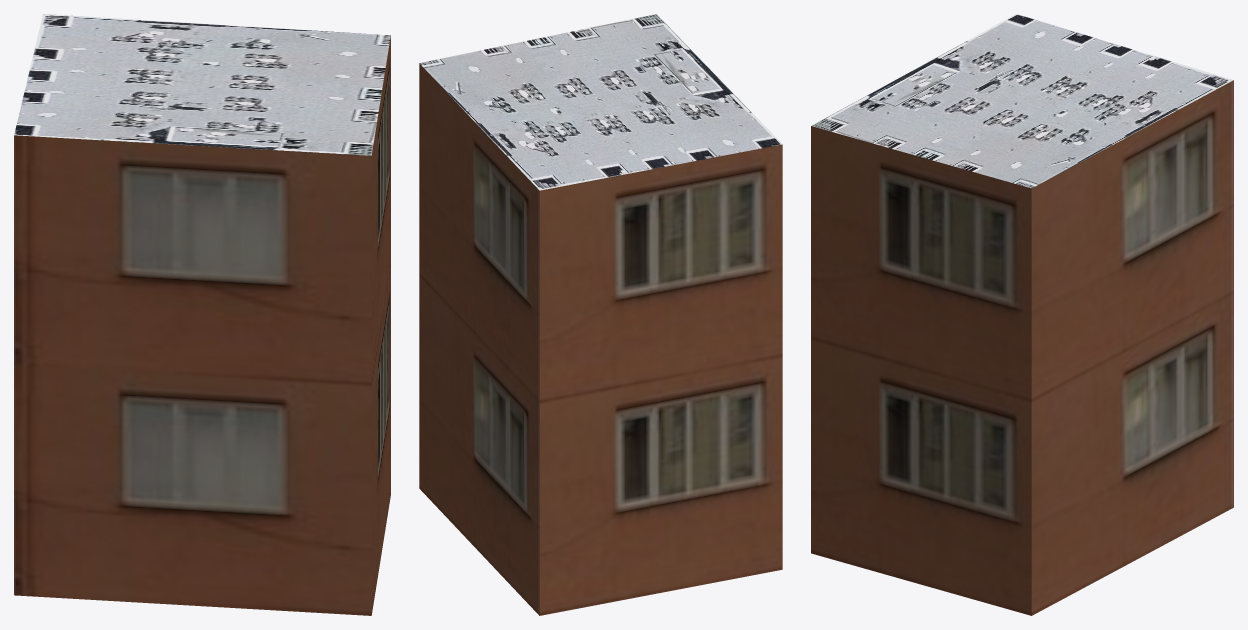
Rendered from ResTex__3697.fbx.
The picture shows the model from 3 angles, left to right: view 1: azimuth 30°, elevation 25°; view 2: azimuth 150°, elevation 25°; view 3: azimuth 270°, elevation 25°; orthographic projection. The views are drawn at different scales.
Visible parts, largest first — view 1: CityEngineMaterial_20_m, CityEngineMaterial_4_m; view 2: CityEngineMaterial_20_m, CityEngineMaterial_4_m; view 3: CityEngineMaterial_20_m, CityEngineMaterial_4_m.
Boxes of the visible parts, left/top/right/bottom form: CityEngineMaterial_20_m: left=14, top=36, right=390, bottom=615; CityEngineMaterial_4_m: left=14, top=14, right=390, bottom=155; CityEngineMaterial_20_m: left=419, top=63, right=782, bottom=615; CityEngineMaterial_4_m: left=419, top=14, right=782, bottom=190; CityEngineMaterial_20_m: left=811, top=80, right=1233, bottom=615; CityEngineMaterial_4_m: left=811, top=14, right=1233, bottom=188.
Size of the model in its own units: 5.25 by 6 by 5.38.
2 materials, 2 textured.
